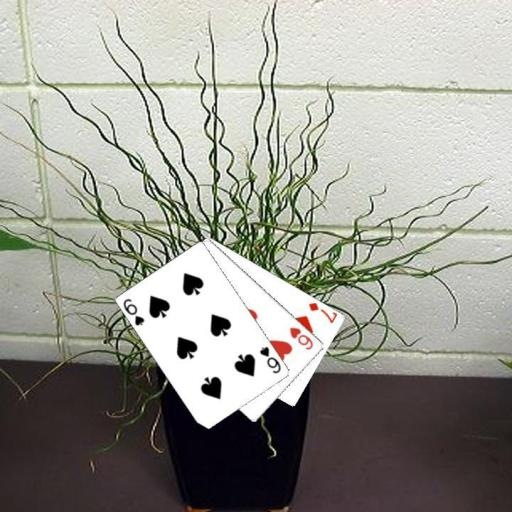6H: (287, 325, 315, 352)
6S: (120, 295, 147, 327), (257, 343, 283, 375)
7D: (306, 299, 338, 325)
